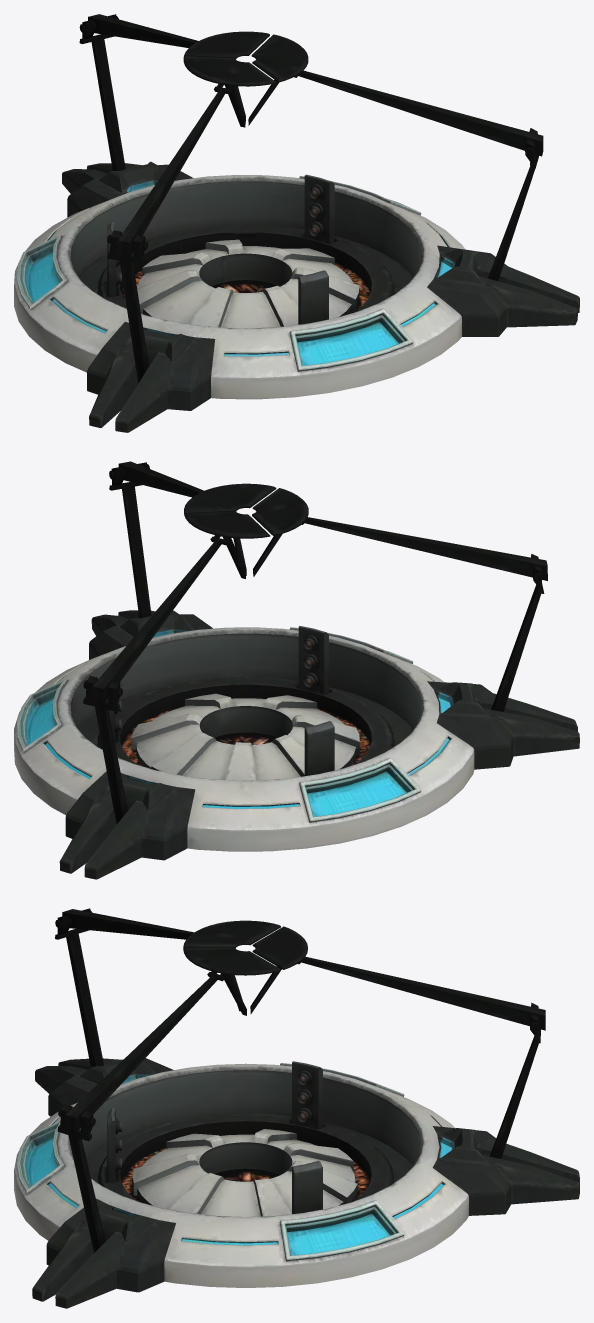
File: pellet_launcher.glb
3 renders of one model, top to bottom at view 1: azimuth 30°, elevation 25°; view 2: azimuth 150°, elevation 25°; view 3: azimuth 270°, elevation 25°, orthographic.
Visible parts, largest first — view 1: combine_ball_launcher; view 2: combine_ball_launcher; view 3: combine_ball_launcher.
Boxes of the visible parts, bbox=[...] form: combine_ball_launcher: bbox=[14, 14, 579, 432]; combine_ball_launcher: bbox=[14, 461, 579, 879]; combine_ball_launcher: bbox=[14, 908, 579, 1308].
Bounding box in the file's own units: 1.18 × 0.569 × 1.19.
1 material, 1 textured.
